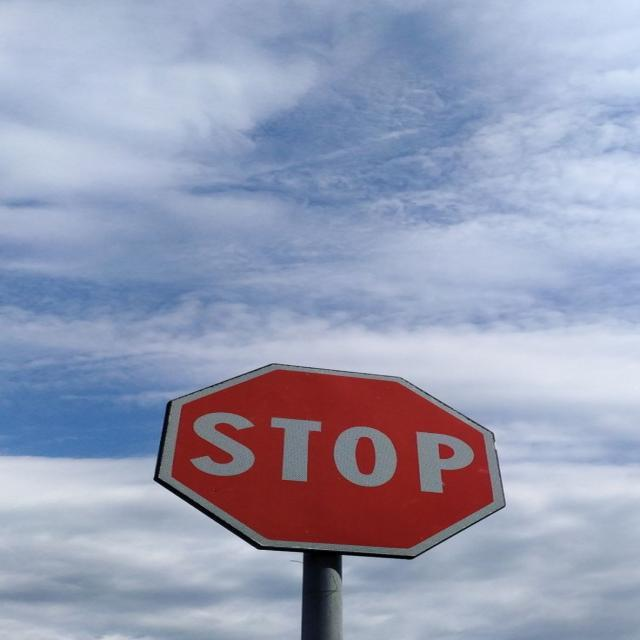stop: (152, 361, 506, 559)
